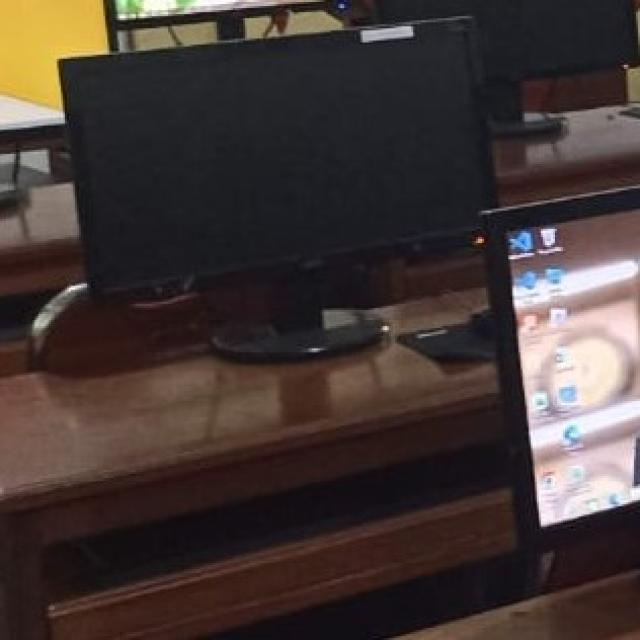offscreen: (63, 18, 492, 291), (374, 1, 639, 77)
onscreen: (484, 181, 640, 588)
